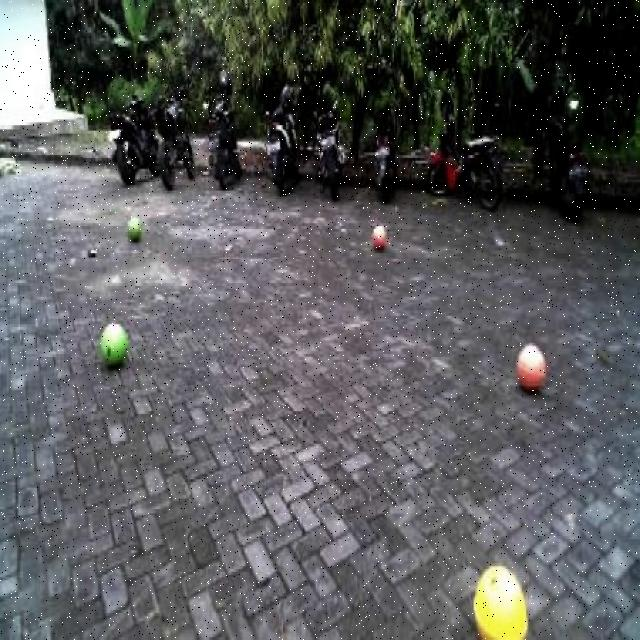buoy: (469, 551, 531, 637), (513, 328, 548, 399), (96, 314, 132, 380), (367, 213, 390, 252), (124, 210, 144, 245)
